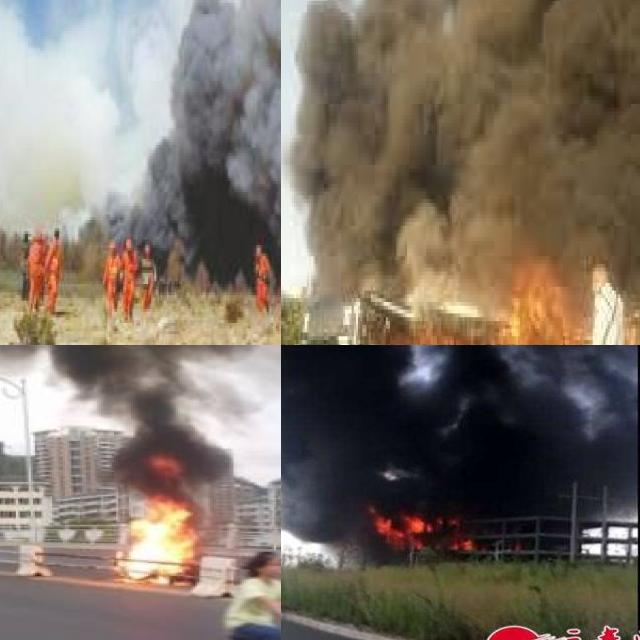fire: (360, 245, 611, 345), (116, 468, 202, 586), (377, 498, 486, 562)
smoke: (285, 0, 640, 290), (281, 345, 631, 557), (102, 0, 281, 245), (0, 345, 281, 486), (0, 0, 98, 236)
